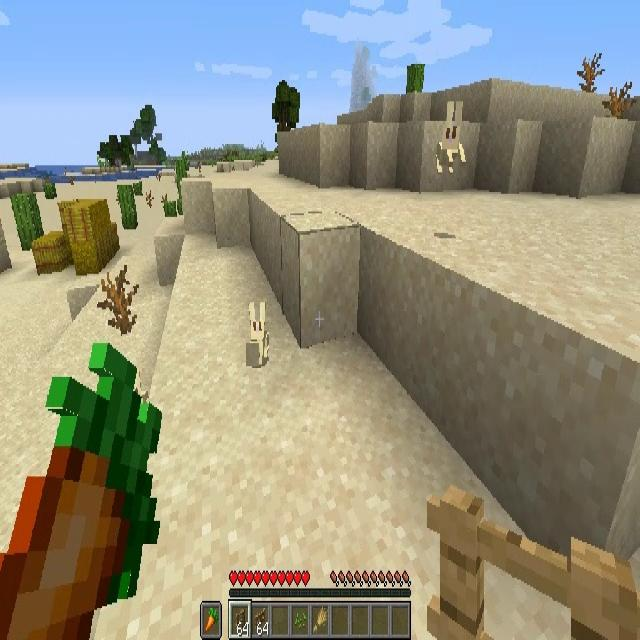rabbit: (435, 104, 468, 174), (246, 300, 268, 366)
